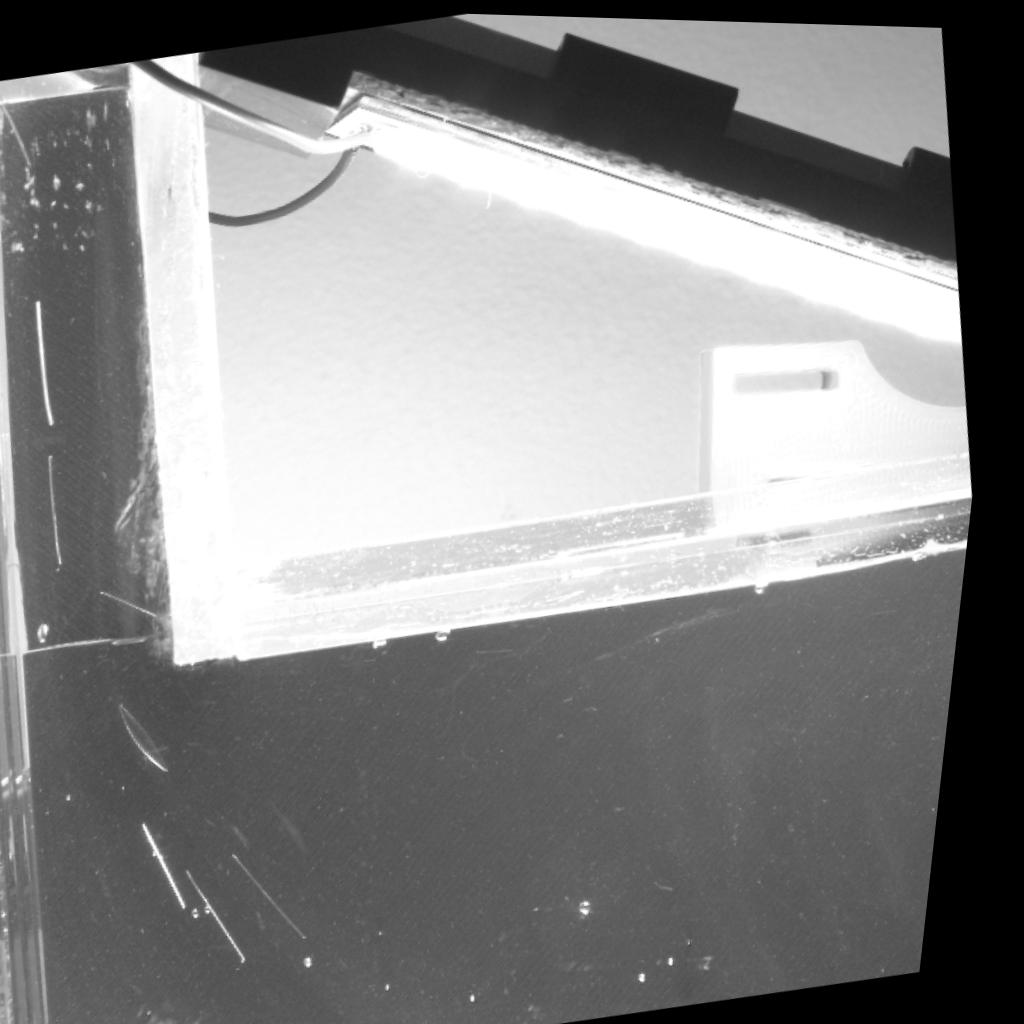Fiber: (248, 847, 332, 939), (203, 865, 271, 963), (156, 820, 208, 911), (38, 298, 65, 426), (56, 454, 76, 565), (0, 106, 35, 163), (109, 590, 173, 621)
